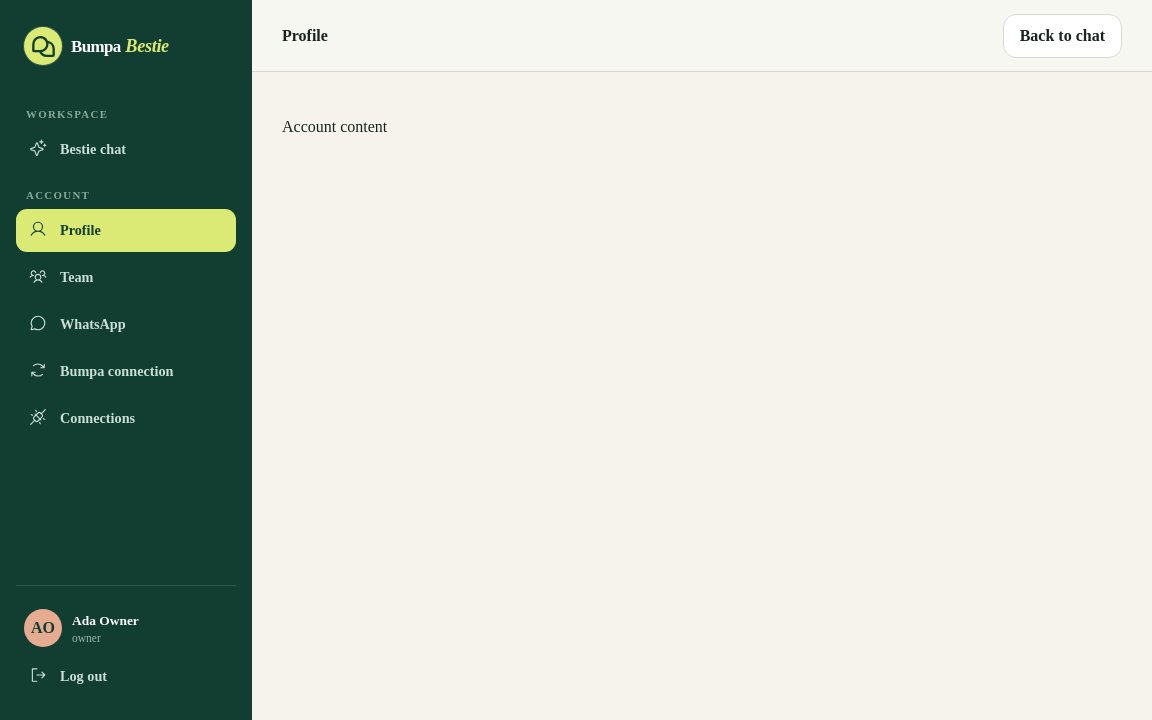
Test: consumer account shell › announces logout failure and allows retry
What coordinates should you click on to do the following:
click the button "Log out"
I would click on:
 (126, 676)
Its box is 16,655 -> 236,698.
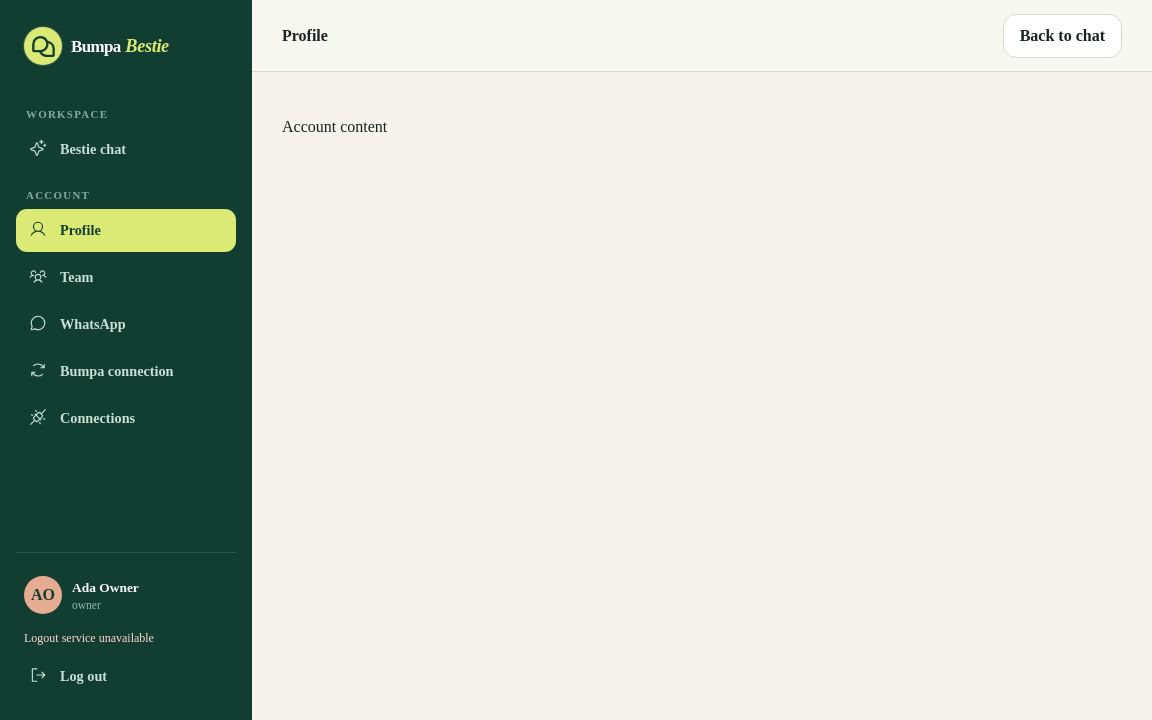
Expected: the message reads "Logout service unavailable", 24,631 -> 154,645
